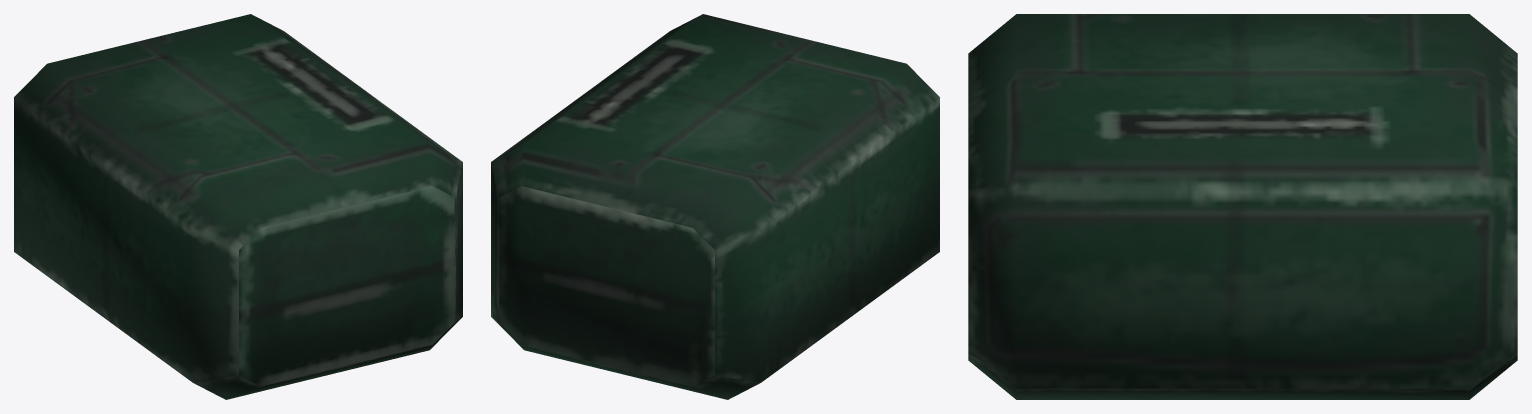
Rendered from MESH_BOXDEFAULT.fbx.
3 views of the same model, side by side, from view 1: azimuth 30°, elevation 25°; view 2: azimuth 150°, elevation 25°; view 3: azimuth 270°, elevation 25° (orthographic). The views are drawn at different scales.
Parts seen in each view (by area): view 1: MESH_BOXDEFAULT; view 2: MESH_BOXDEFAULT; view 3: MESH_BOXDEFAULT.
Part boxes in pixels (x1,y1,x2,y2): MESH_BOXDEFAULT: [14, 14, 462, 399]; MESH_BOXDEFAULT: [491, 14, 939, 399]; MESH_BOXDEFAULT: [968, 14, 1517, 399].
Size of the model in its own units: 0.7077 by 0.5142 by 0.9837.
